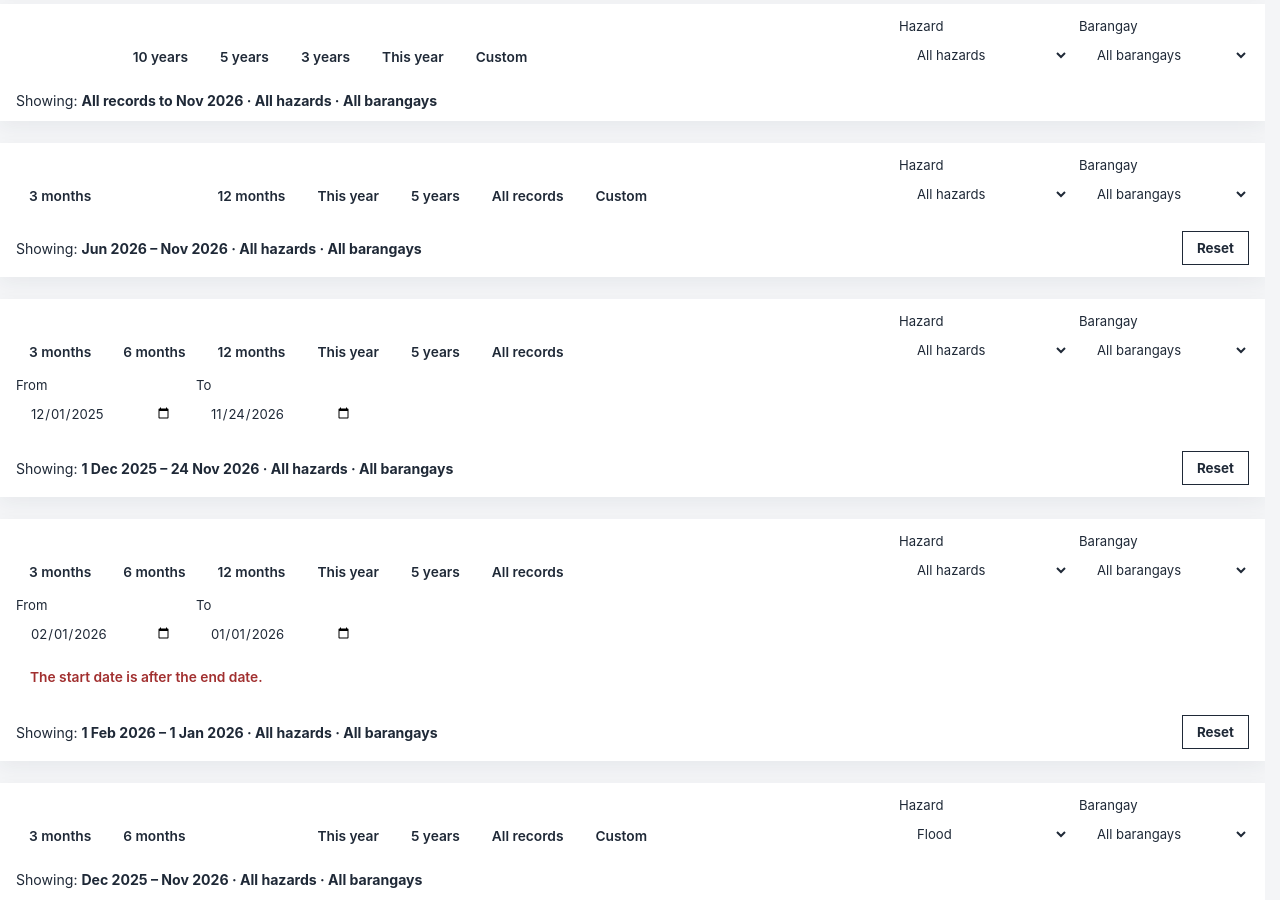
hazard and barangay lists, barangays by name, and Reset once something is picked
Later steps or results of the test are not shown.
(page scrolled)
Select "Flood" in the 5th dropdown labelled "Hazard". click: (984, 834)
box: left=899, top=817, right=1069, bottom=851
(page scrolled)
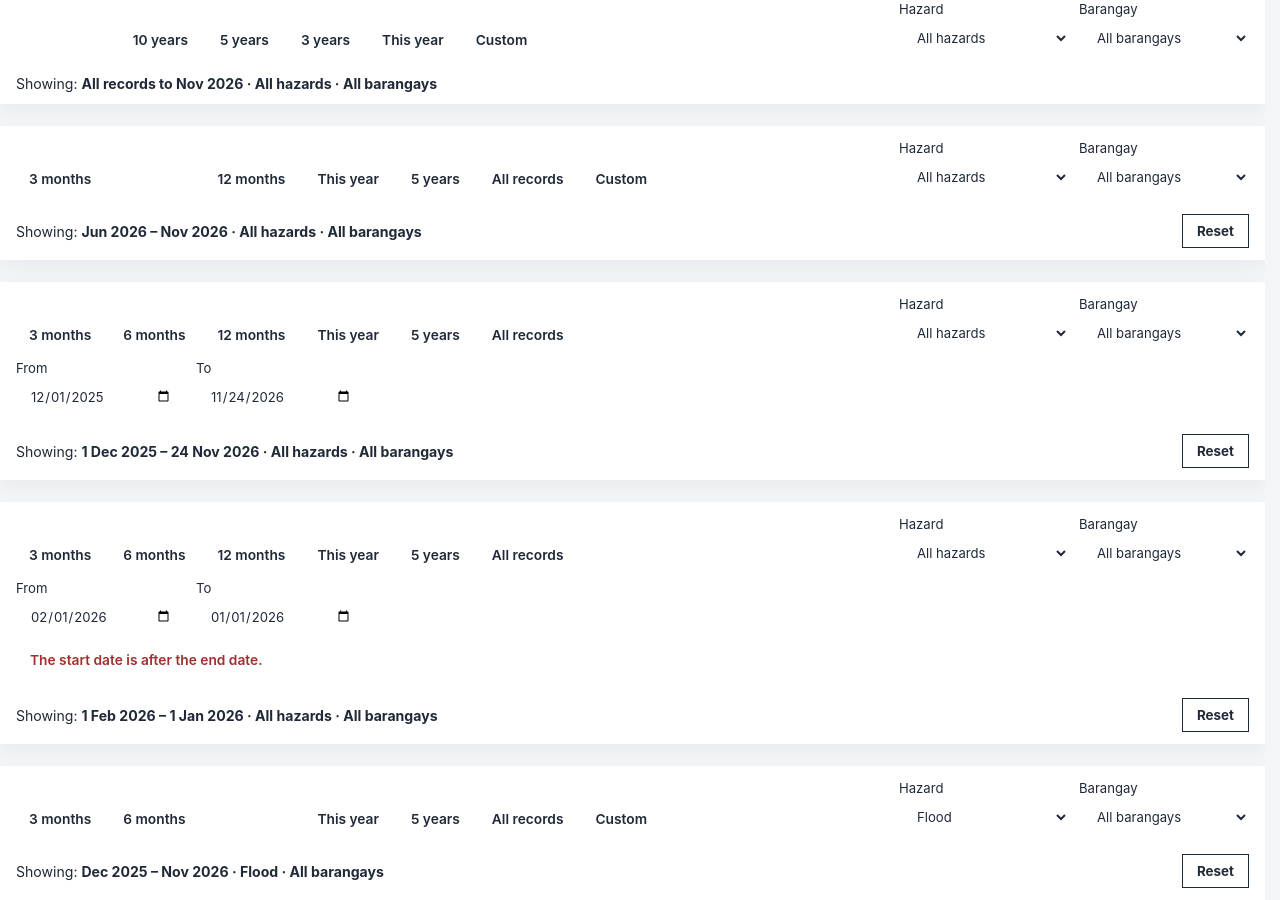
Expected: the text "· Flood ·" is shown, left=82, top=862, right=384, bottom=880
